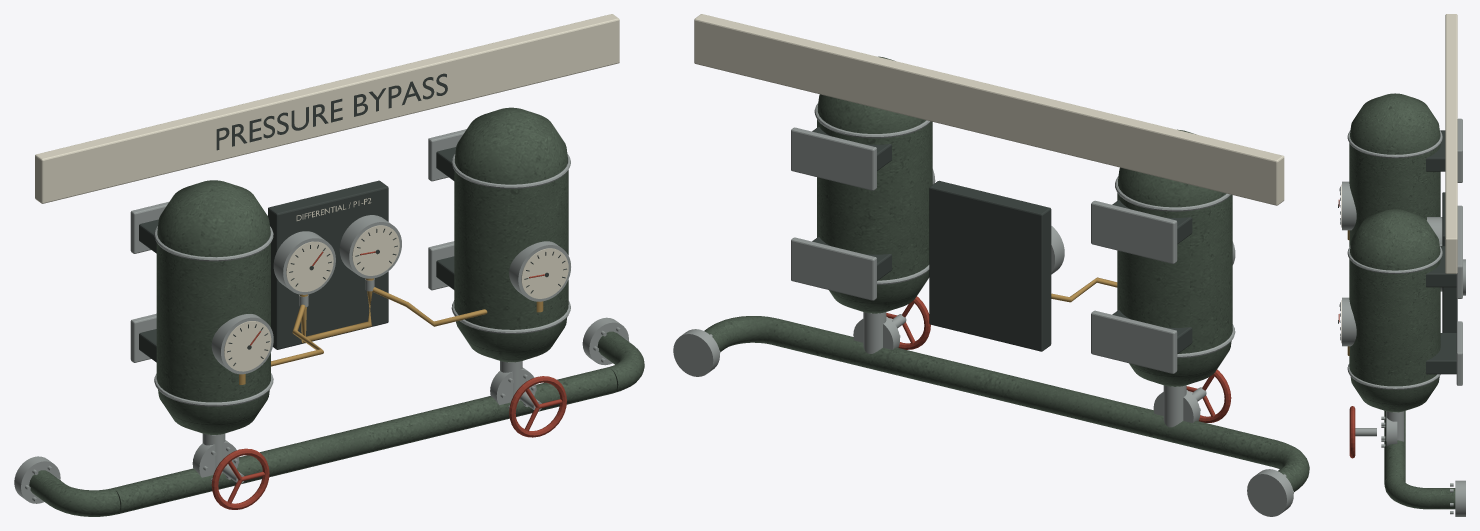
Rendered from pressure_manifold.glb.
3 views of the same model, side by side, from view 1: azimuth 30°, elevation 25°; view 2: azimuth 150°, elevation 25°; view 3: azimuth 270°, elevation 25° (orthographic). The views are drawn at different scales.
Visible parts, largest first — view 1: pressure_manifold / transfer_green_enamel, pressure_manifold / transfer_instrument_ivory, pressure_manifold / transfer_galvanized, pressure_manifold / transfer_dark_steel, pressure_manifold / transfer_valve_red, pressure_manifold / transfer_bonded_brass; view 2: pressure_manifold / transfer_green_enamel, pressure_manifold / transfer_instrument_ivory, pressure_manifold / transfer_galvanized, pressure_manifold / transfer_dark_steel, pressure_manifold / transfer_valve_red; view 3: pressure_manifold / transfer_green_enamel, pressure_manifold / transfer_galvanized, pressure_manifold / transfer_instrument_ivory, pressure_manifold / transfer_dark_steel, pressure_manifold / transfer_valve_red.
Boxes of the visible parts, x1=… form: pressure_manifold / transfer_green_enamel: x1=29, y1=107, x2=644, y2=516; pressure_manifold / transfer_instrument_ivory: x1=35, y1=14, x2=619, y2=371; pressure_manifold / transfer_galvanized: x1=14, y1=129, x2=629, y2=503; pressure_manifold / transfer_dark_steel: x1=139, y1=73, x2=566, y2=365; pressure_manifold / transfer_valve_red: x1=211, y1=251, x2=566, y2=509; pressure_manifold / transfer_bonded_brass: x1=239, y1=278, x2=543, y2=384; pressure_manifold / transfer_green_enamel: x1=704, y1=56, x2=1309, y2=491; pressure_manifold / transfer_instrument_ivory: x1=694, y1=14, x2=1284, y2=205; pressure_manifold / transfer_galvanized: x1=673, y1=103, x2=1293, y2=516; pressure_manifold / transfer_dark_steel: x1=812, y1=126, x2=1192, y2=353; pressure_manifold / transfer_valve_red: x1=886, y1=296, x2=1231, y2=422; pressure_manifold / transfer_green_enamel: x1=1349, y1=93, x2=1455, y2=509; pressure_manifold / transfer_galvanized: x1=1342, y1=118, x2=1465, y2=516; pressure_manifold / transfer_instrument_ivory: x1=1341, y1=14, x2=1457, y2=343; pressure_manifold / transfer_dark_steel: x1=1338, y1=130, x2=1457, y2=374; pressure_manifold / transfer_valve_red: x1=1338, y1=199, x2=1355, y2=458.
Bounding box in the file's own units: 3.68 × 2.02 × 0.84.
Materials: 6 (1 with a texture image).
